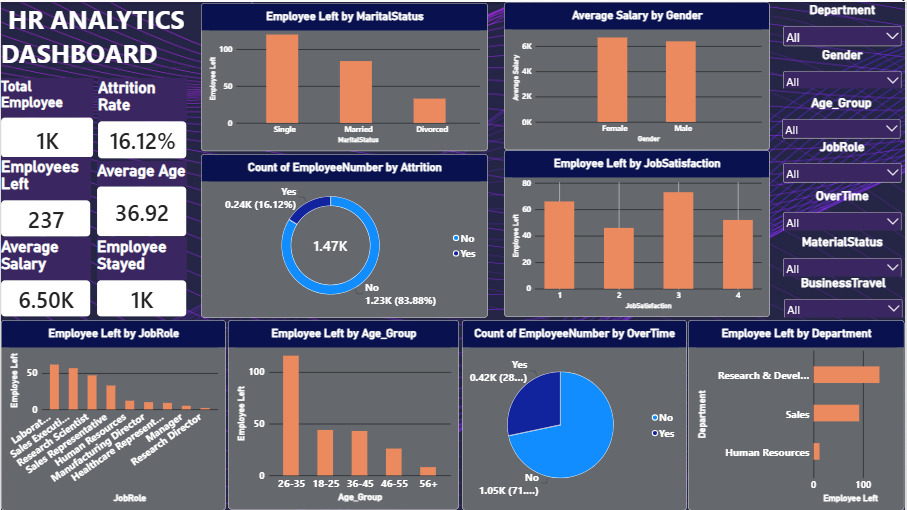

This screenshot's page, from the dashboard's own definition file:
{"tool":"powerbi","page":{"name":"Page 1","canvas":[1920,1080],"ordinal":0},"visuals":[{"type":"textbox","box":[150,140,300,199],"z":0},{"type":"textbox","box":[0,0,540.9,140.4],"z":1000},{"type":"textbox","box":[460.4,140.4,299.4,142.5],"z":2000},{"type":"textbox","box":[769,136,299,150],"z":3000},{"type":"cardVisual","title":"Total Employee","fields":{"Data":["HR_Employee_Attrition_Cleaned.TOTAL EMPLOYEE COUNT"]},"box":[0,160.9,196.1,169.3],"z":4000},{"type":"cardVisual","title":"Employee Stayed","fields":{"Data":["HR_Employee_Attrition_Cleaned.Employee Stayed"]},"box":[203.8,499.8,190.9,169.5],"z":5000},{"type":"cardVisual","title":"Employees Left","fields":{"Data":["HR_Employee_Attrition_Cleaned.Employee Left"]},"box":[0,330.4,190.9,169.5],"z":6000},{"type":"cardVisual","title":"Average Salary","fields":{"Data":["HR_Employee_Attrition_Cleaned.Average Salary"]},"box":[0,499.8,190.9,169.5],"z":7000},{"type":"cardVisual","title":"Average       Age","fields":{"Data":["HR_Employee_Attrition_Cleaned.Average Age"]},"box":[203.8,338.9,190.9,160.9],"z":8000},{"type":"cardVisual","title":"Attrition    Rate","fields":{"Data":["HR_Employee_Attrition_Cleaned.Attrition Rate"]},"box":[205.9,160.9,188.8,171.6],"z":9000},{"type":"donutChart","fields":{"Category":["HR_Employee_Attrition_Cleaned.Attrition"],"Y":["CountNonNull(HR_Employee_Attrition_Cleaned.EmployeeNumber)"]},"box":[425,322.5,610,347.5],"z":10000},{"type":"clusteredBarChart","fields":{"Category":["HR_Employee_Attrition_Cleaned.Department"],"Y":["HR_Employee_Attrition_Cleaned.Employee Left"]},"box":[1460,675,460,405],"z":11000},{"type":"clusteredColumnChart","fields":{"Category":["HR_Employee_Attrition_Cleaned.JobRole"],"Y":["HR_Employee_Attrition_Cleaned.Employee Left"]},"box":[0,675,477.5,405],"z":12000},{"type":"columnChart","fields":{"Category":["HR_Employee_Attrition_Cleaned.Age_Group"],"Y":["HR_Employee_Attrition_Cleaned.Employee Left"]},"box":[482.7,675.8,491.3,403.3],"z":13000},{"type":"pieChart","fields":{"Category":["HR_Employee_Attrition_Cleaned.OverTime"],"Y":["CountNonNull(HR_Employee_Attrition_Cleaned.EmployeeNumber)"]},"box":[980,675,477.5,405],"z":14000},{"type":"clusteredColumnChart","fields":{"Category":["HR_Employee_Attrition_Cleaned.JobSatisfaction"],"Y":["HR_Employee_Attrition_Cleaned.Employee Left"]},"box":[1070,315,565,355],"z":15000},{"type":"columnChart","fields":{"Category":["HR_Employee_Attrition_Cleaned.MaritalStatus"],"Y":["HR_Employee_Attrition_Cleaned.Employee Left"]},"box":[425,2.5,610,315],"z":16000},{"type":"clusteredColumnChart","fields":{"Category":["HR_Employee_Attrition_Cleaned.Gender"],"Y":["HR_Employee_Attrition_Cleaned.Average Salary"]},"box":[1070,0,565,315],"z":17000},{"type":"slicer","title":"Department","fields":{"Values":["HR_Employee_Attrition_Cleaned.Department"]},"box":[1658.8,0,260.8,94.1],"z":18000},{"type":"slicer","title":"Gender","fields":{"Values":["HR_Employee_Attrition_Cleaned.Gender"]},"box":[1658.8,96.1,260.8,88.2],"z":19000},{"type":"slicer","title":"Age_Group","fields":{"Values":["HR_Employee_Attrition_Cleaned.Age_Group"]},"box":[1656.9,198,260.8,94.1],"z":20000},{"type":"slicer","title":"JobRole","fields":{"Values":["HR_Employee_Attrition_Cleaned.JobRole"]},"box":[1658.8,292.2,260.8,103.9],"z":21000},{"type":"slicer","title":"OverTime","fields":{"Values":["HR_Employee_Attrition_Cleaned.OverTime"]},"box":[1658.8,396.1,260.8,90.2],"z":22000},{"type":"slicer","title":"MaterialStatus","fields":{"Values":["HR_Employee_Attrition_Cleaned.MaritalStatus"]},"box":[1658.8,494.1,260.8,90.2],"z":23000},{"type":"slicer","title":"BusinessTravel","fields":{"Values":["HR_Employee_Attrition_Cleaned.BusinessTravel"]},"box":[1660,580,260.8,90.2],"z":23001}]}

Visuals, with their boxes in screenshot pixels (x1, y1, x2, y2), scaled from the page's 1920x1080 canvas onto the 907x510 screenshot:
textbox: detection(71, 66, 213, 160)
textbox: detection(0, 0, 256, 66)
textbox: detection(217, 66, 359, 134)
textbox: detection(363, 64, 505, 135)
"Total Employee" cardVisual: detection(0, 76, 93, 156)
"Employee Stayed" cardVisual: detection(96, 236, 186, 316)
"Employees Left" cardVisual: detection(0, 156, 90, 236)
"Average Salary" cardVisual: detection(0, 236, 90, 316)
"Average       Age" cardVisual: detection(96, 160, 186, 236)
"Attrition    Rate" cardVisual: detection(97, 76, 186, 157)
donutChart - HR_Employee_Attrition_Cleaned.Attrition x CountNonNull(HR_Employee_Attrition_Cleaned.EmployeeNumber): detection(201, 152, 489, 316)
clusteredBarChart - HR_Employee_Attrition_Cleaned.Department x HR_Employee_Attrition_Cleaned.Employee Left: detection(690, 319, 906, 509)
clusteredColumnChart - HR_Employee_Attrition_Cleaned.JobRole x HR_Employee_Attrition_Cleaned.Employee Left: detection(0, 319, 226, 509)
columnChart - HR_Employee_Attrition_Cleaned.Age_Group x HR_Employee_Attrition_Cleaned.Employee Left: detection(228, 319, 460, 509)
pieChart - HR_Employee_Attrition_Cleaned.OverTime x CountNonNull(HR_Employee_Attrition_Cleaned.EmployeeNumber): detection(463, 319, 689, 509)
clusteredColumnChart - HR_Employee_Attrition_Cleaned.JobSatisfaction x HR_Employee_Attrition_Cleaned.Employee Left: detection(505, 149, 772, 316)
columnChart - HR_Employee_Attrition_Cleaned.MaritalStatus x HR_Employee_Attrition_Cleaned.Employee Left: detection(201, 1, 489, 150)
clusteredColumnChart - HR_Employee_Attrition_Cleaned.Gender x HR_Employee_Attrition_Cleaned.Average Salary: detection(505, 0, 772, 149)
"Department" slicer: detection(784, 0, 906, 44)
"Gender" slicer: detection(784, 45, 906, 87)
"Age_Group" slicer: detection(783, 94, 906, 138)
"JobRole" slicer: detection(784, 138, 906, 187)
"OverTime" slicer: detection(784, 187, 906, 230)
"MaterialStatus" slicer: detection(784, 233, 906, 276)
"BusinessTravel" slicer: detection(784, 274, 906, 316)
